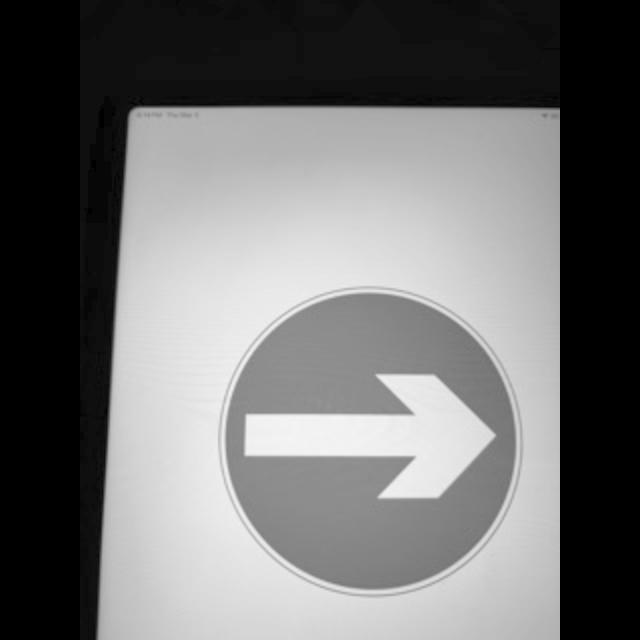TURN RIGHT: (214, 286, 524, 598)
